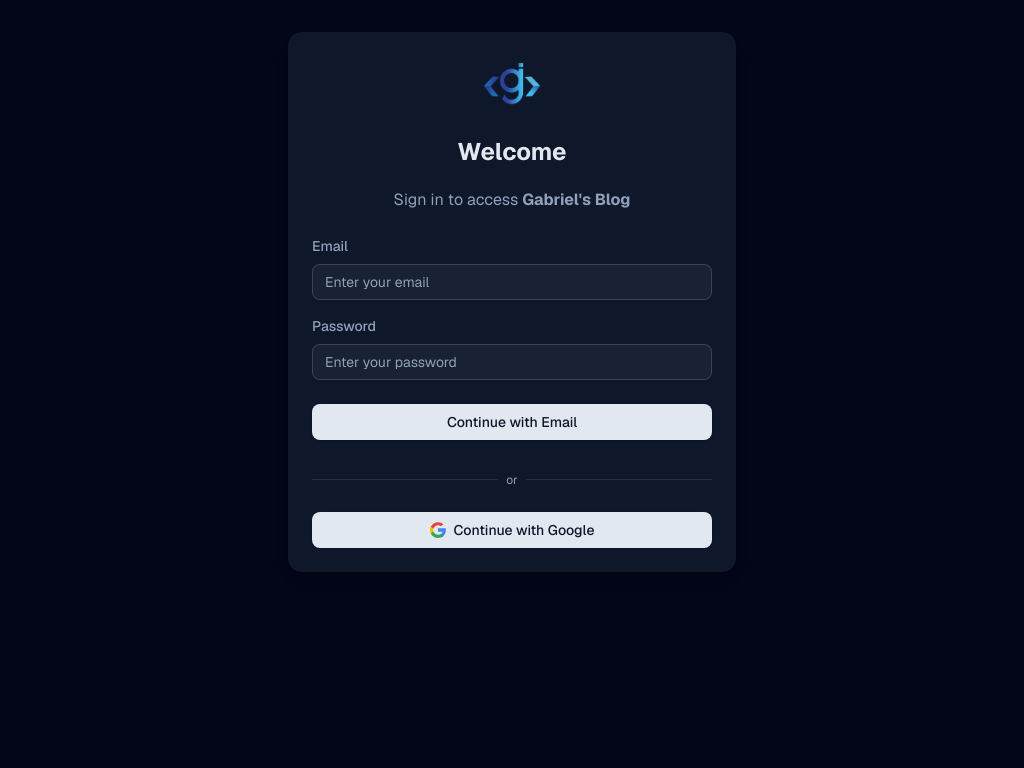
Test case: LoginPage › shows error modal if no user is returned from email sign-in
The width and height of the screenshot is (1024, 768).
Type "test@email.com" into the field labelled "Email" at (512,282), box 312,264 -> 712,300
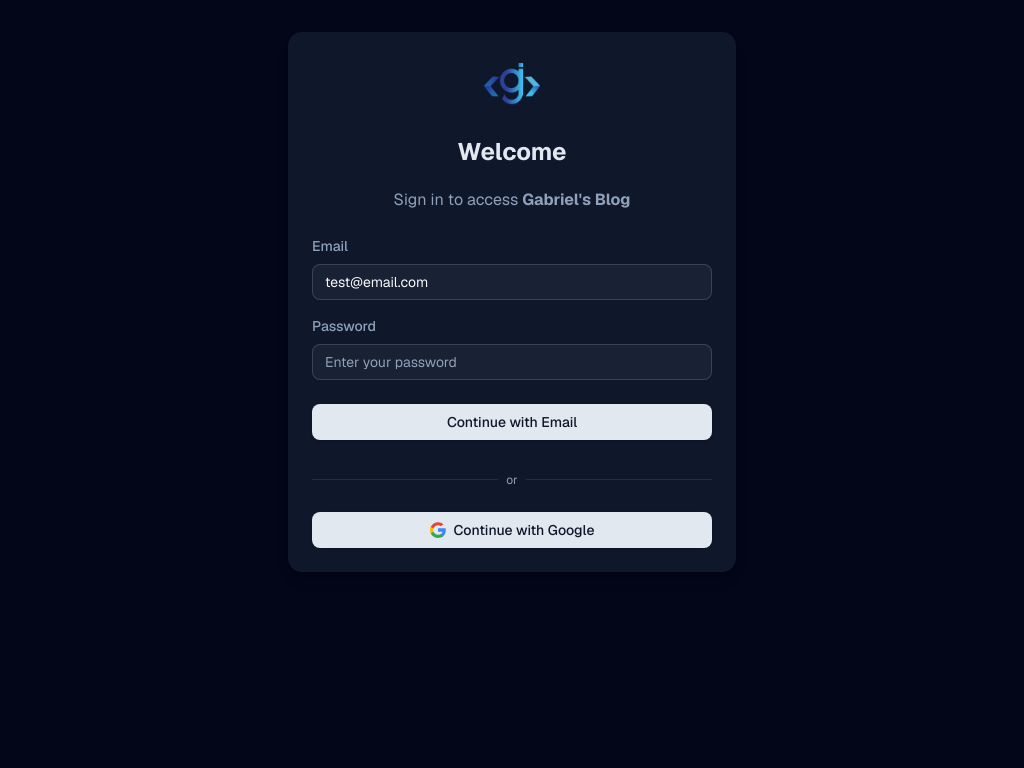
Type "password123" into the password field labelled "Password" at (512,362), box 312,344 -> 712,380
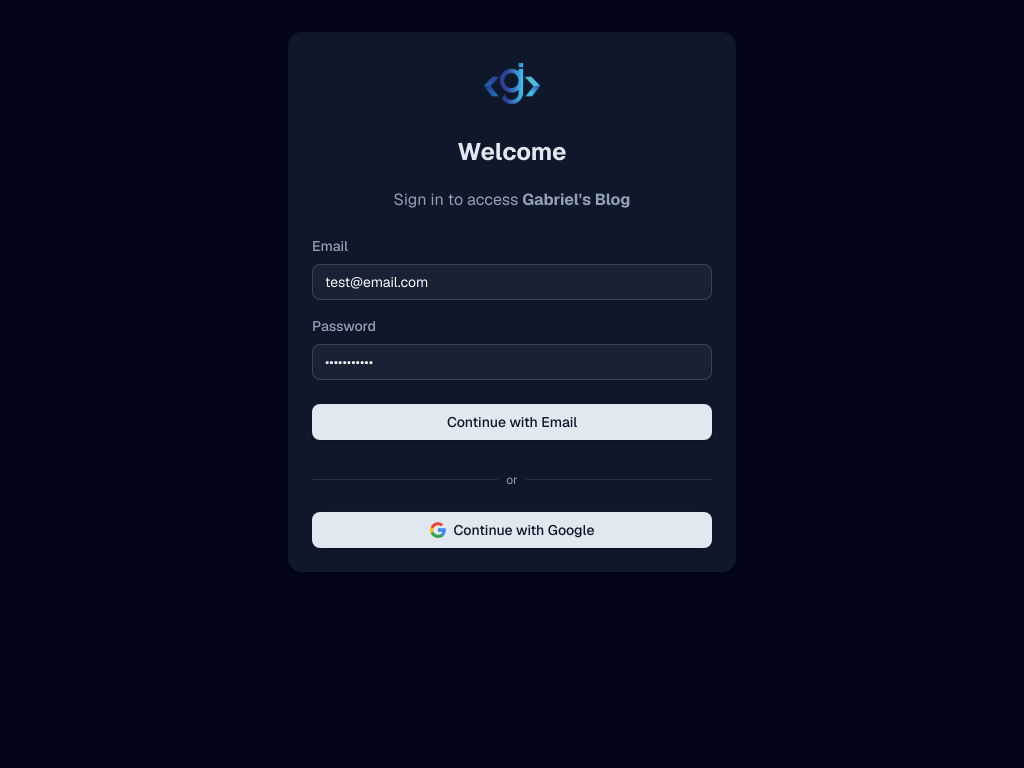
Click the button with aria-label "Sign in or Sign up with Email" at (512,422), box 312,404 -> 712,440
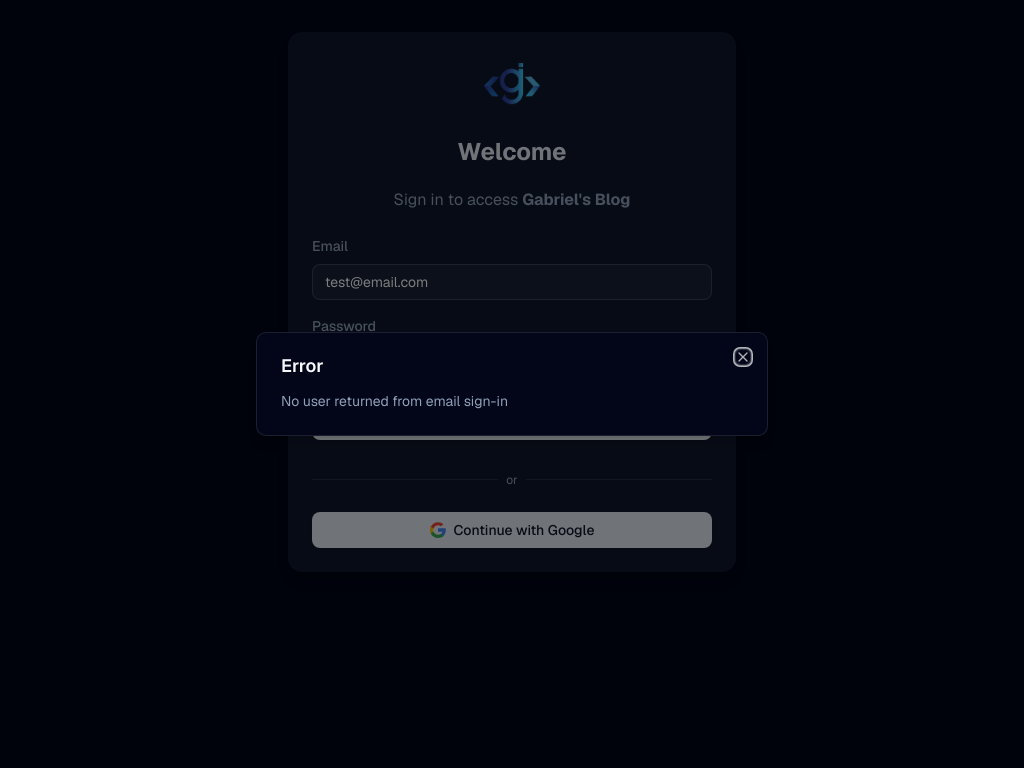
Check: the text "No user returned from email sign-in" is shown, box 281,392 -> 508,410
